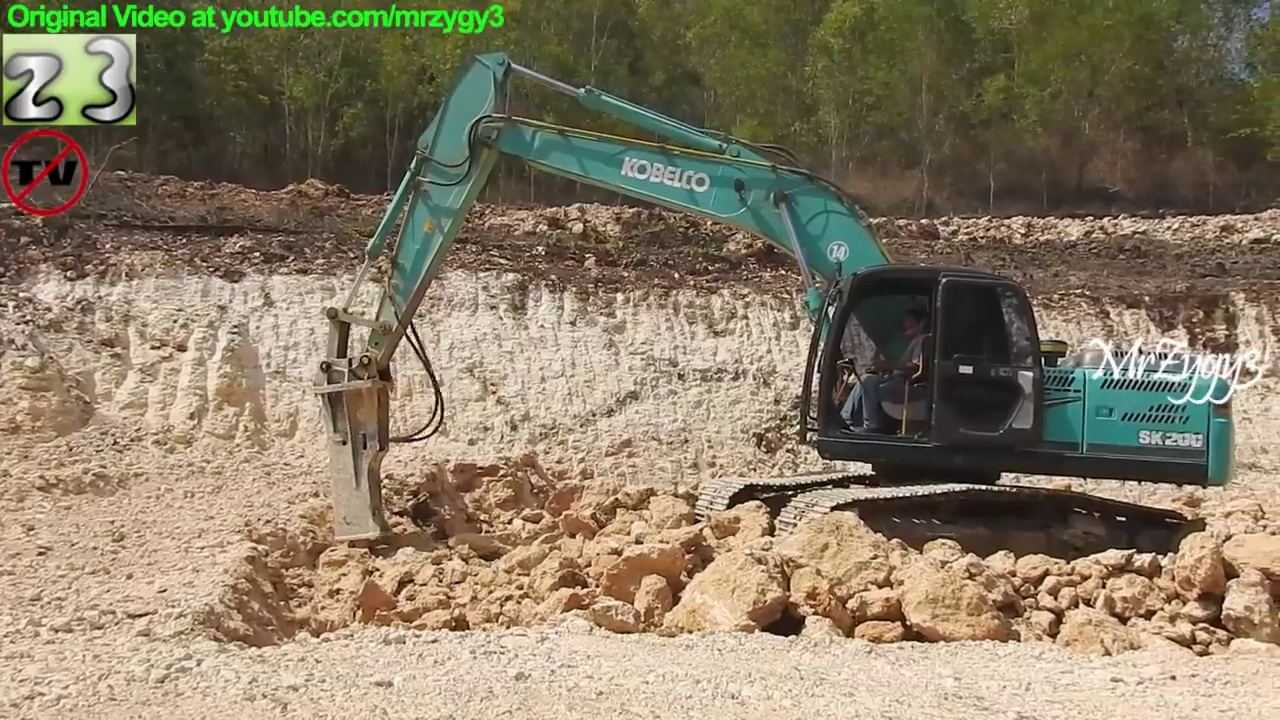excavator breaker: (307, 48, 1241, 582)
